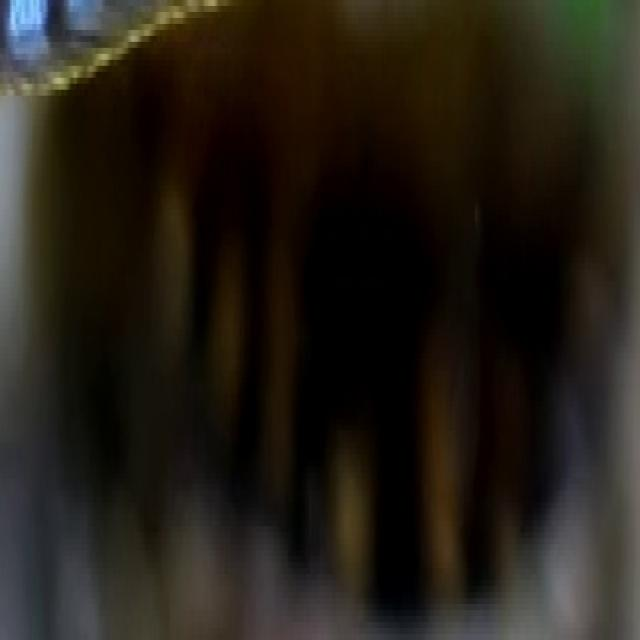fish: (1, 0, 640, 634)
